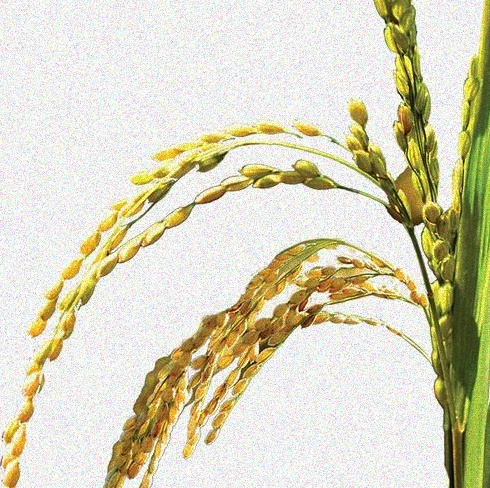rice: (2, 93, 411, 486)
